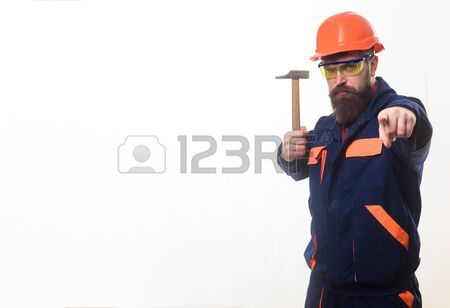Person_wearing_helmet: (306, 8, 381, 77)
